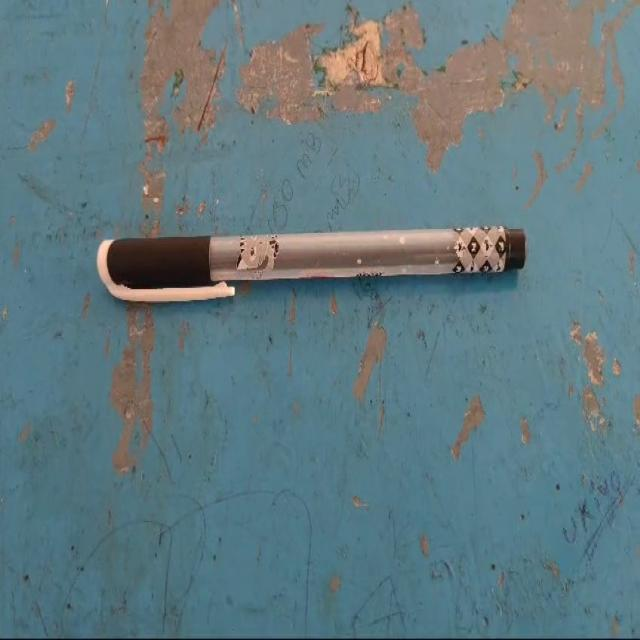pen: (68, 118, 562, 411)
